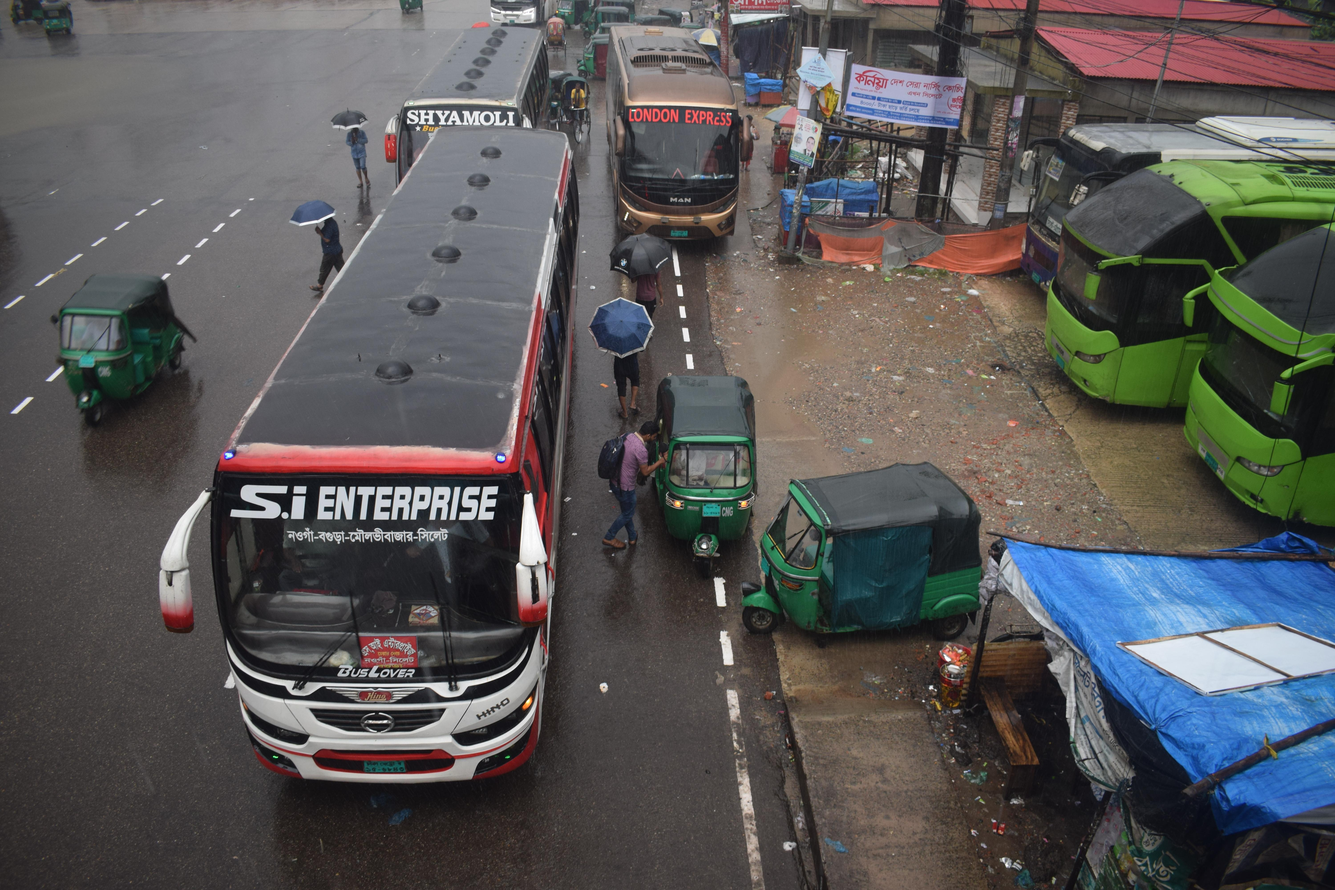Bus: (120, 71, 634, 808), (1030, 142, 1335, 433), (1158, 189, 1335, 541), (580, 14, 771, 259), (985, 100, 1185, 321), (359, 14, 567, 202)
Car: (540, 65, 598, 152)
